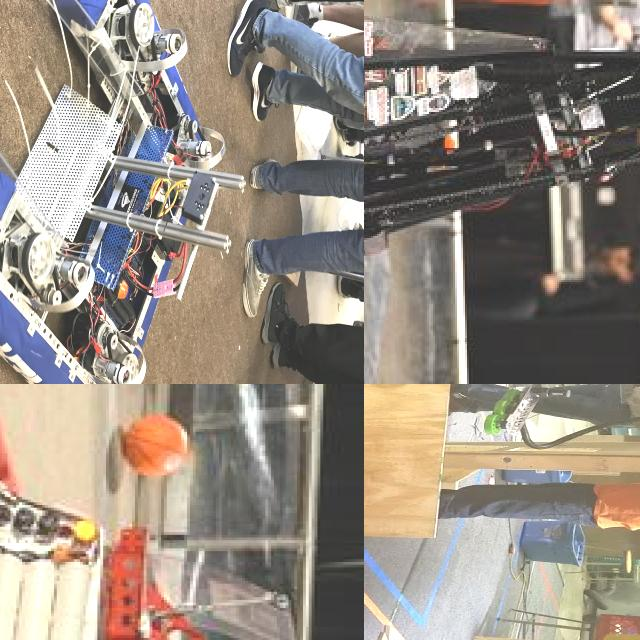FRC-Robots: (0, 0, 364, 384), (364, 0, 640, 384), (0, 384, 364, 640), (364, 384, 640, 446)
